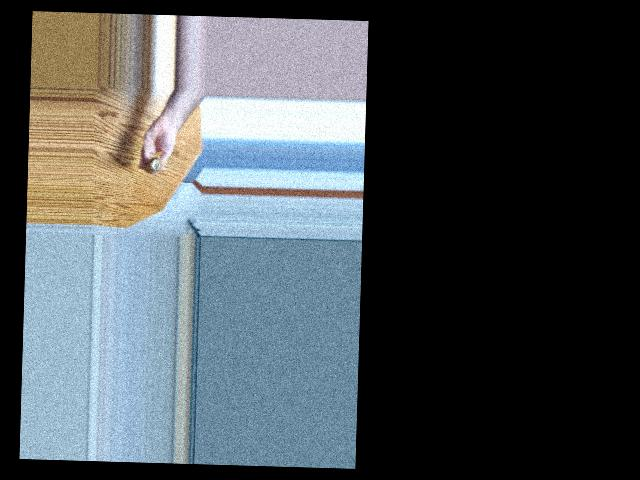sweet_potato: (148, 157, 165, 177)
